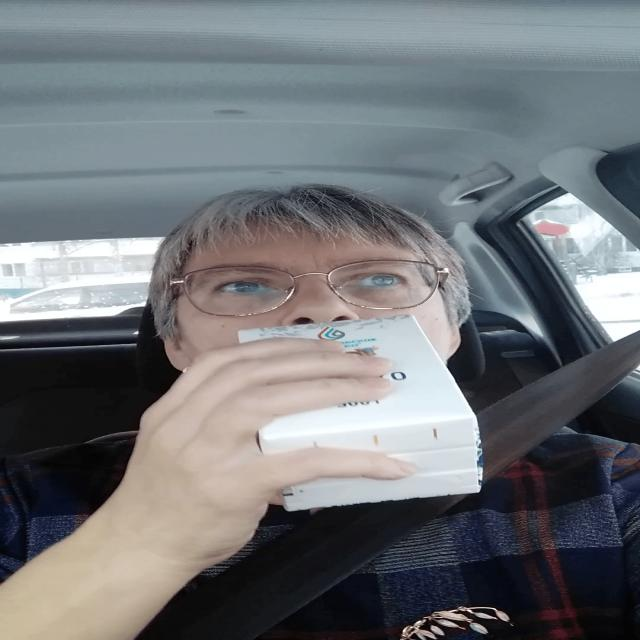3: (190, 322, 637, 636)
Seatbelt: (234, 312, 490, 512)
